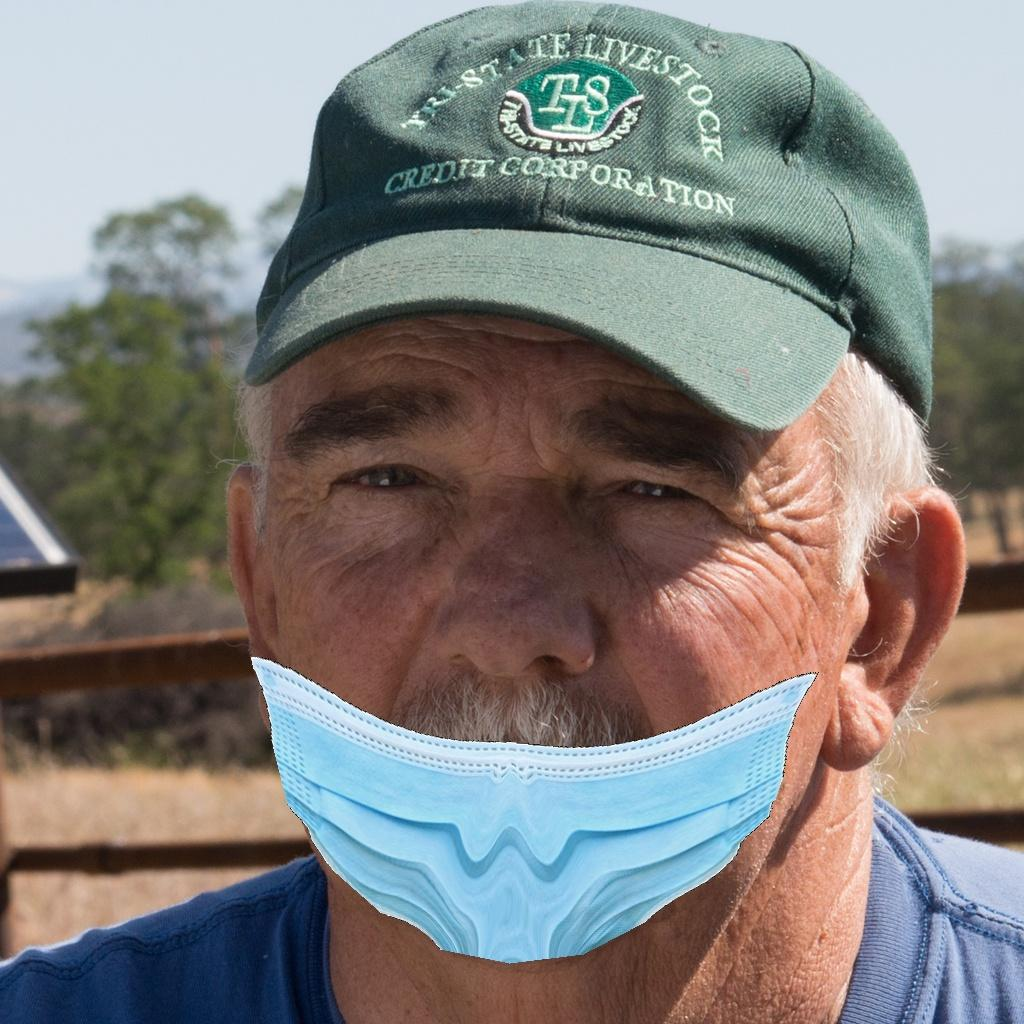Máscara Incorreta: (242, 339, 854, 922)
